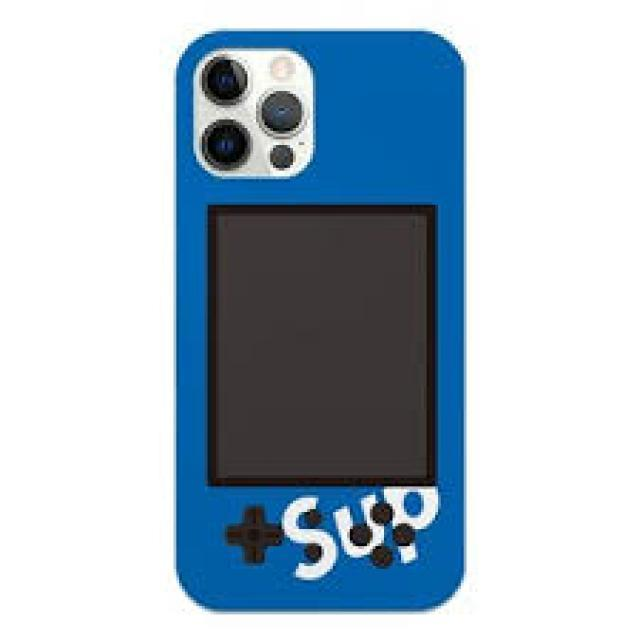Phone: (174, 23, 469, 614)
